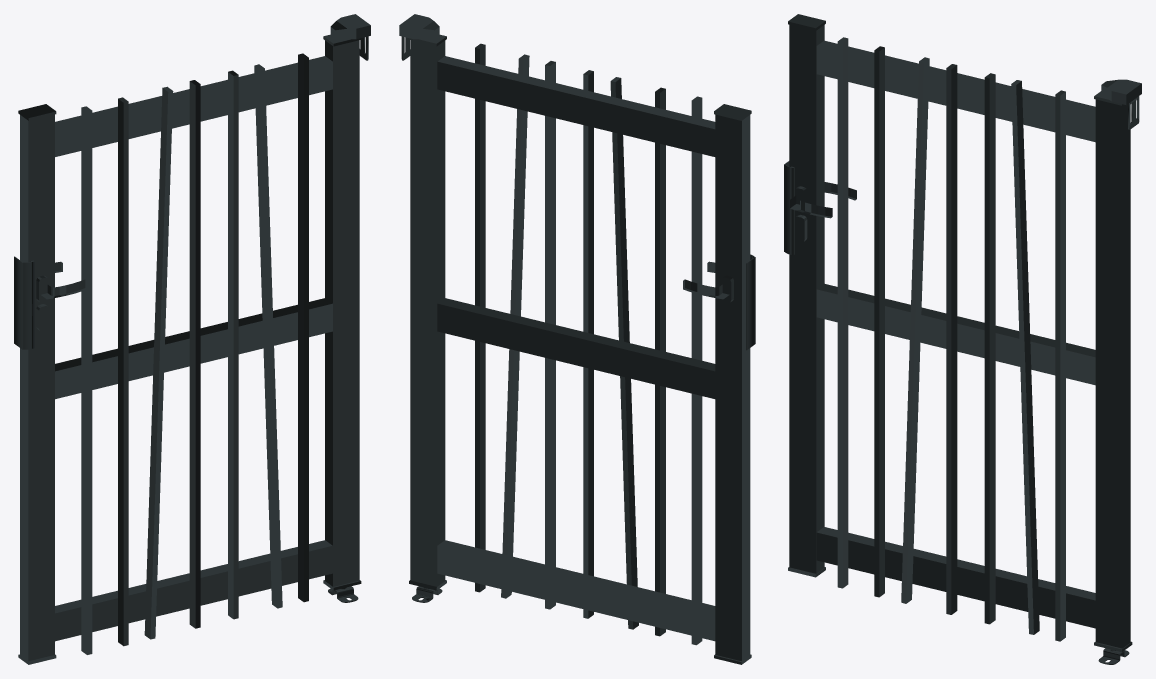
The picture shows the model from 3 angles, left to right: view 1: azimuth 30°, elevation 25°; view 2: azimuth 150°, elevation 25°; view 3: azimuth 330°, elevation 25°; orthographic projection.
Parts seen in each view (by area): view 1: folha, priximbattable_net_portillon_aluminium_134693_portillon_texa, puxador, muleta; view 2: folha, priximbattable_net_portillon_aluminium_134693_portillon_texa, puxador, muleta; view 3: folha, priximbattable_net_portillon_aluminium_134693_portillon_texa, muleta, puxador.
Boxes of the visible parts, x1,y1,x2,y2 form: folha: [18, 34, 361, 664]; priximbattable_net_portillon_aluminium_134693_portillon_texa: [14, 14, 370, 602]; puxador: [36, 275, 48, 331]; muleta: [41, 261, 87, 299]; folha: [409, 34, 751, 664]; priximbattable_net_portillon_aluminium_134693_portillon_texa: [399, 14, 755, 602]; puxador: [721, 275, 733, 331]; muleta: [683, 261, 729, 299]; folha: [788, 14, 1132, 651]; priximbattable_net_portillon_aluminium_134693_portillon_texa: [784, 79, 1141, 664]; muleta: [790, 182, 856, 218]; puxador: [795, 186, 807, 241].
Bounding box in the file's own units: 104 × 164 × 14.86.
1 material, 1 textured.
